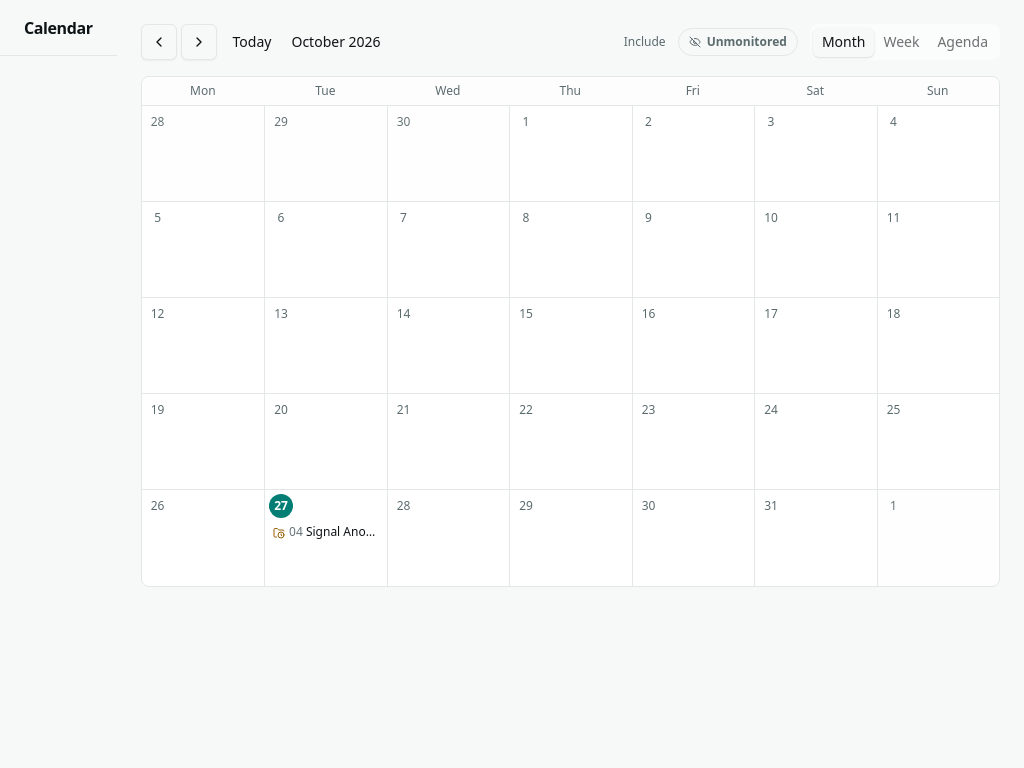
Test: CalendarPage › keeps the batch wording for a deferred episode in both views
The width and height of the screenshot is (1024, 768).
Expected: the link "04 Signal Anomaly" is shown, [269, 520, 382, 544]
Click the tab "Week" at (901, 42), box [874, 28, 928, 56]
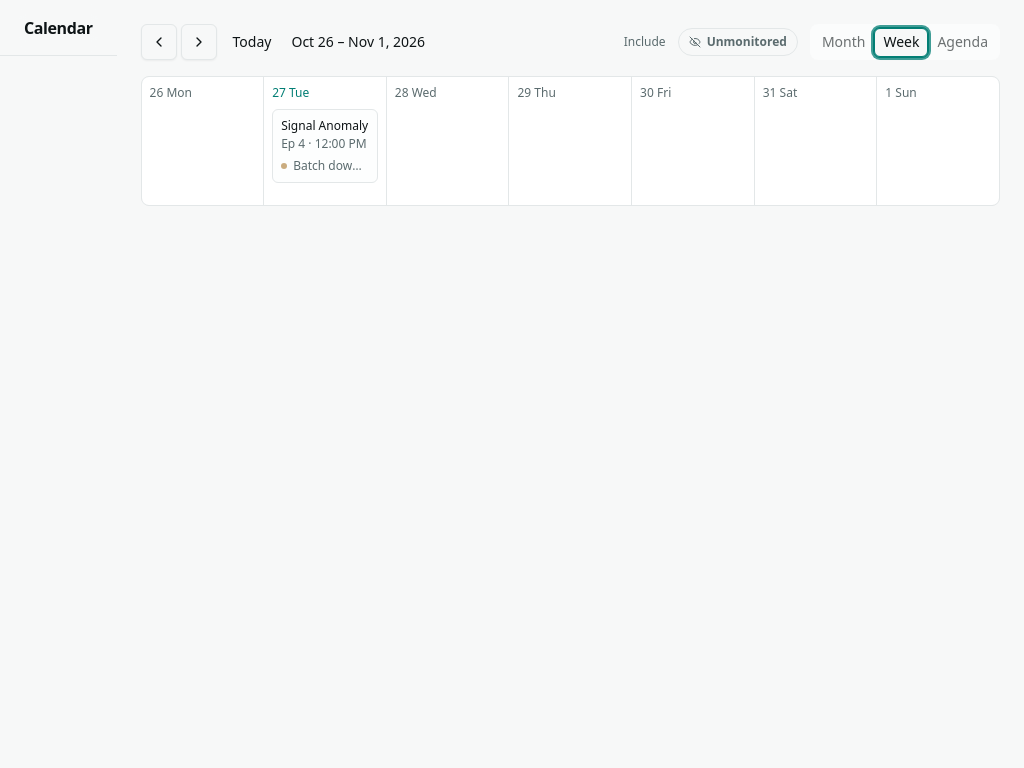
Result: the link "Signal Anomaly Ep 4 · 12:00 PM Batch downloaded" is shown at [272, 109, 378, 183]
Click the tab "Agenda" at (963, 42), box [928, 28, 997, 56]
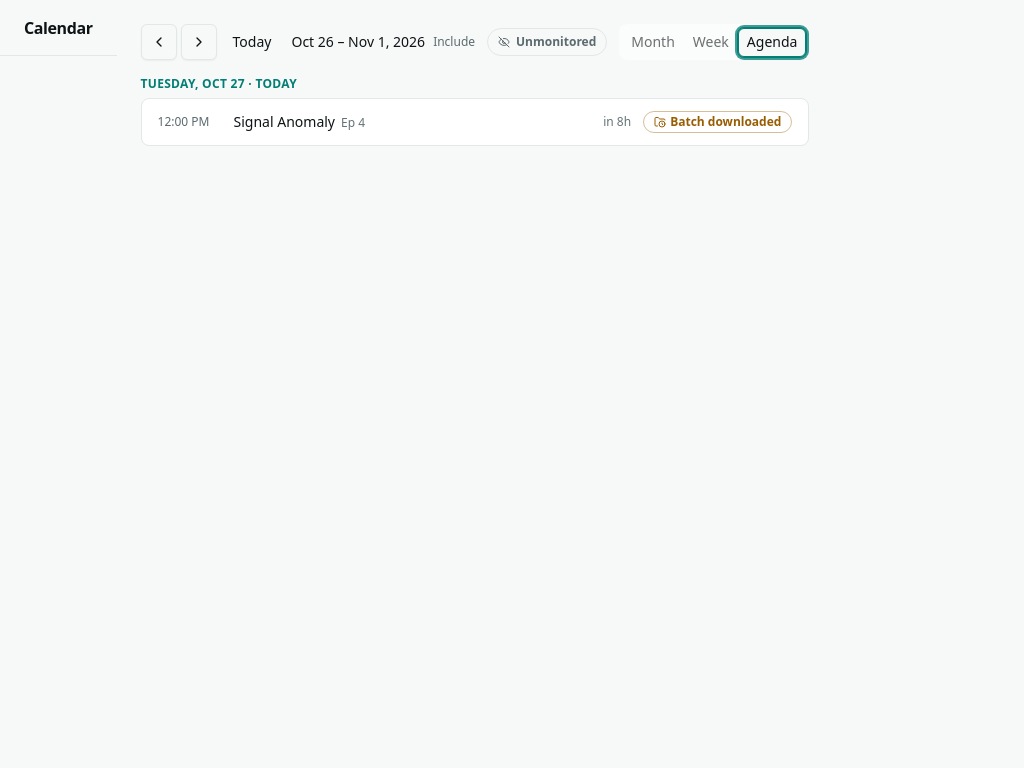
Result: the link "Signal Anomaly" shows "Batch downloaded" at [158, 111, 792, 133]
